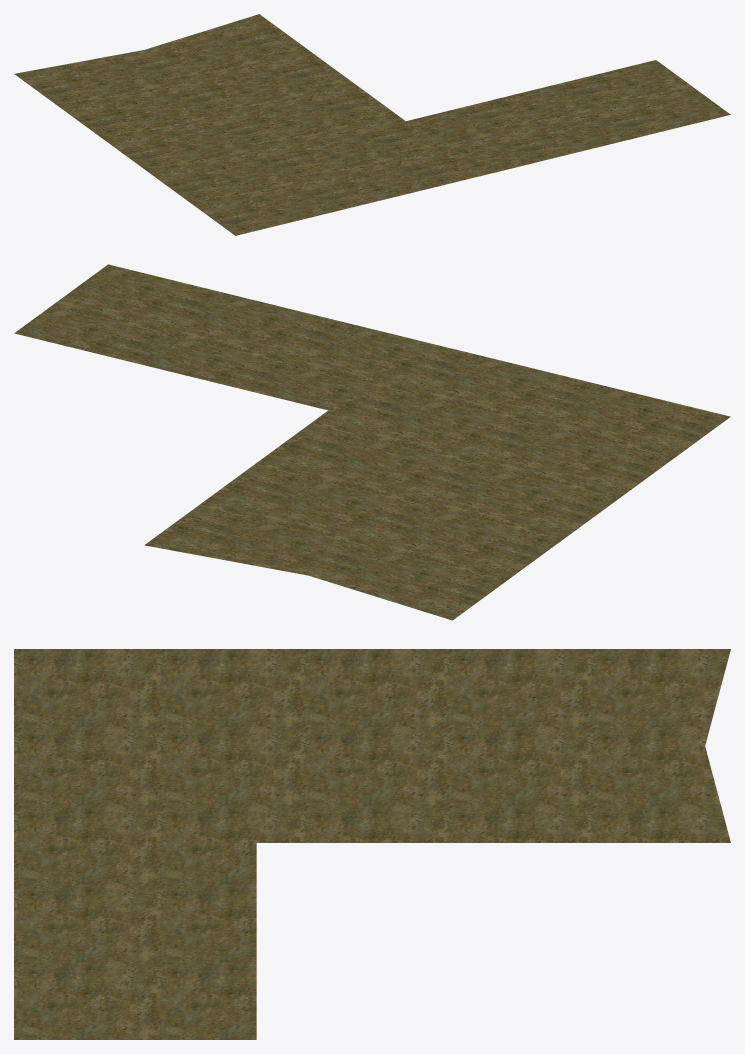
File: CH09_SMAUG_PLAYSURFACE_LAIR100.fbx
3 views of the same model, one above another, from view 1: azimuth 30°, elevation 25°; view 2: azimuth 150°, elevation 25°; view 3: azimuth 270°, elevation 25° (orthographic). The views are drawn at different scales.
Visible parts, largest first — view 1: CH09_SMAUG_PLAYSURFACE_LAIR100; view 2: CH09_SMAUG_PLAYSURFACE_LAIR100; view 3: CH09_SMAUG_PLAYSURFACE_LAIR100.
Boxes of the visible parts, x1,y1,x2,y2 form: CH09_SMAUG_PLAYSURFACE_LAIR100: (14, 14, 730, 235); CH09_SMAUG_PLAYSURFACE_LAIR100: (14, 264, 730, 620); CH09_SMAUG_PLAYSURFACE_LAIR100: (14, 649, 730, 1039).
Size of the model in its own units: 318296 by 218 by 246450.
1 material, 1 textured.
